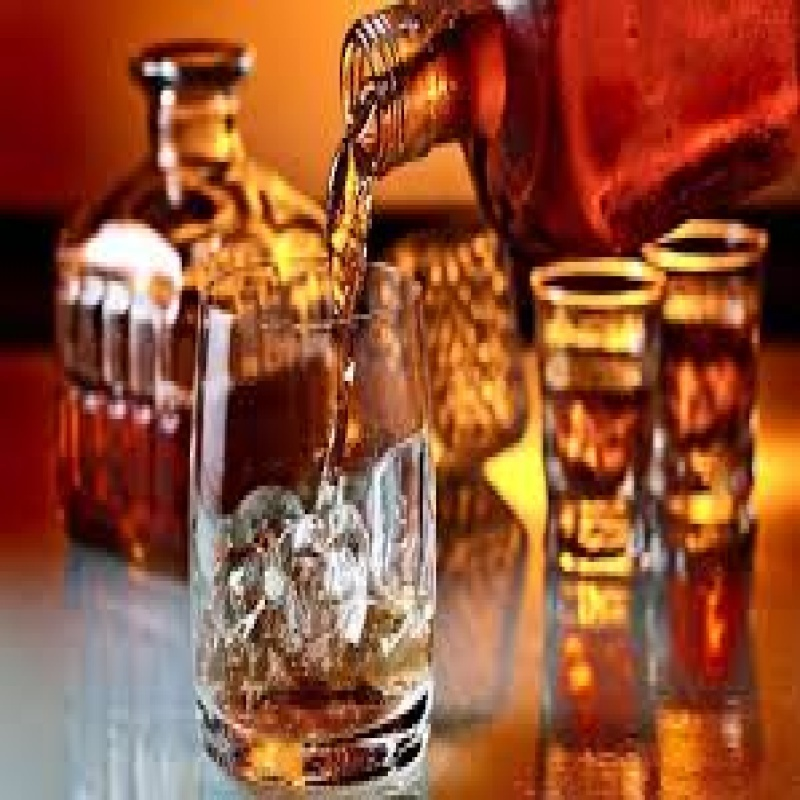whiskey: (184, 263, 438, 786), (534, 258, 662, 569)
